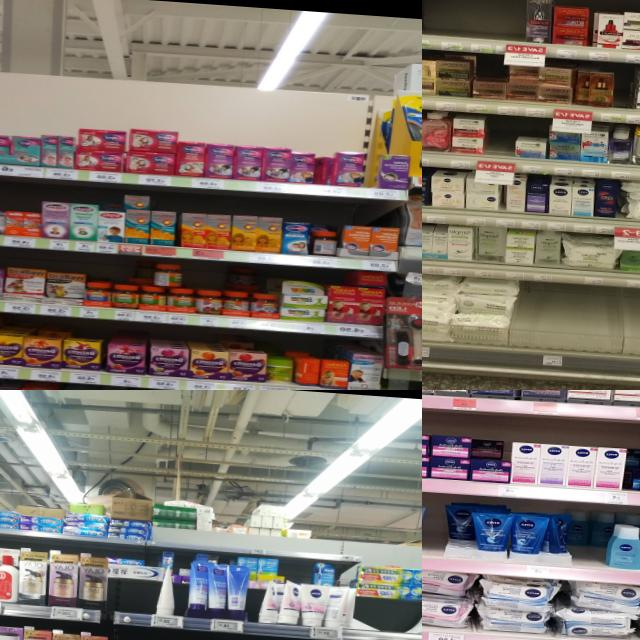100- O.O.S: (514, 283, 620, 372), (352, 596, 422, 640), (480, 116, 516, 172), (114, 578, 156, 626), (494, 0, 526, 55), (466, 0, 497, 53), (422, 499, 443, 569), (440, 0, 468, 51), (611, 65, 632, 123), (422, 0, 442, 49)
